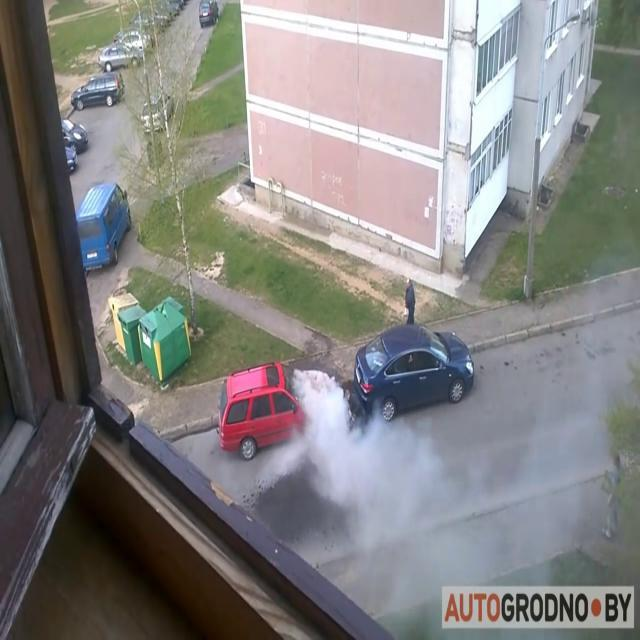Smoke: (282, 343, 638, 609)
